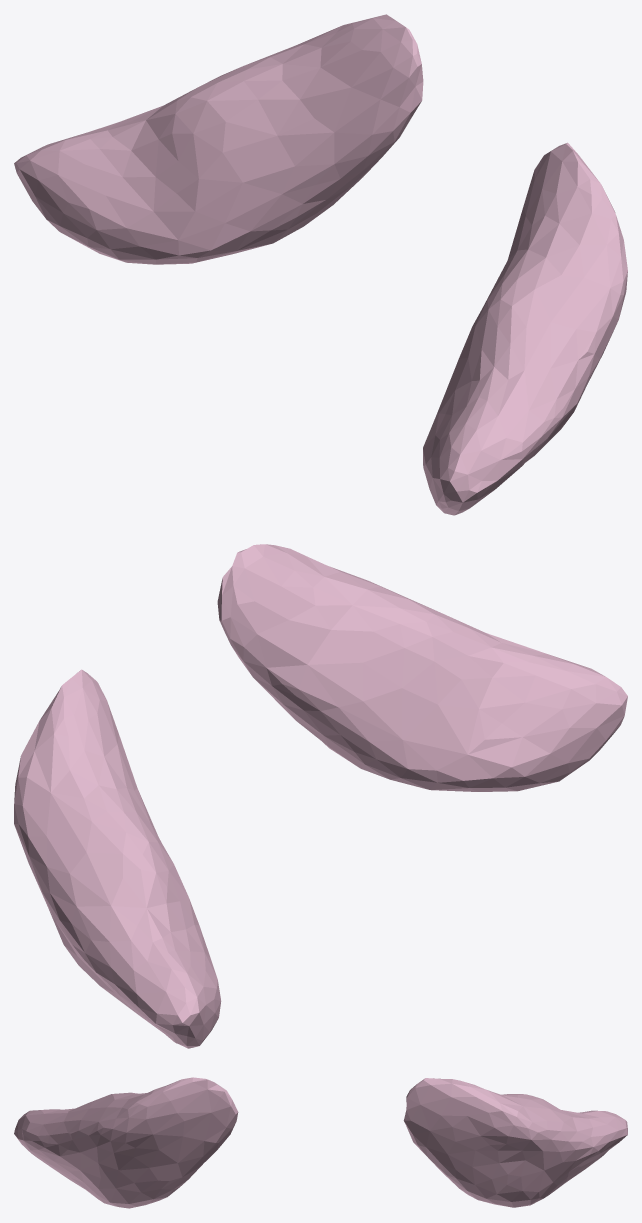
3 renders of one model, top to bottom at view 1: azimuth 30°, elevation 25°; view 2: azimuth 150°, elevation 25°; view 3: azimuth 270°, elevation 25°, orthographic. The views are drawn at different scales.
Parts seen in each view (by area): view 1: 711.obj; view 2: 711.obj; view 3: 711.obj.
Part boxes in pixels (x1,y1,x2,y2): 711.obj: [14, 14, 627, 515]; 711.obj: [14, 544, 627, 1048]; 711.obj: [14, 1077, 627, 1208].
Bounding box in the file's own units: 882 × 812 × 2597.
